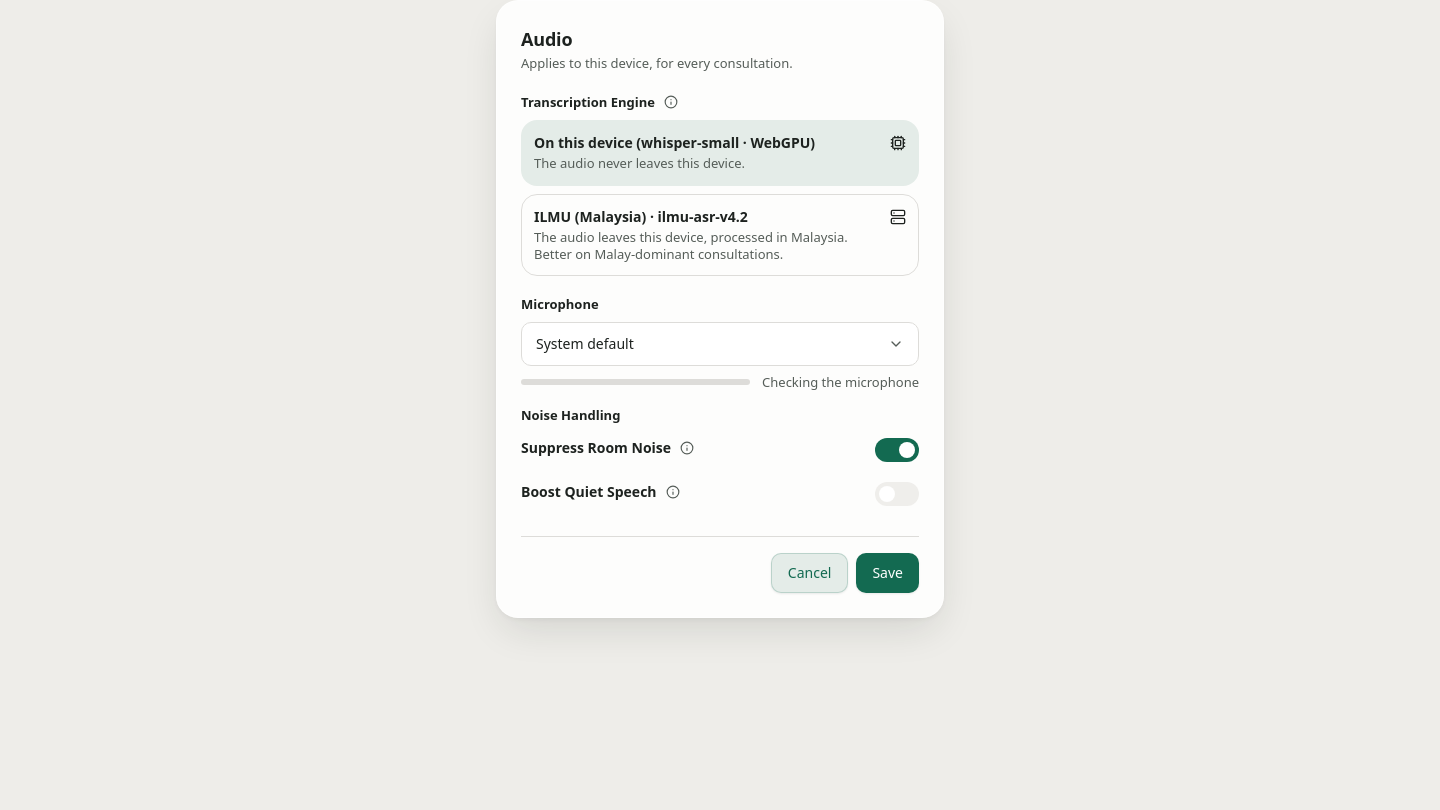
Test: the audio processing toggles › states what boosting quiet speech does, and what it may also amplify
Click the button named "about boost quiet speech" at (672, 492), box [662, 482, 682, 502]
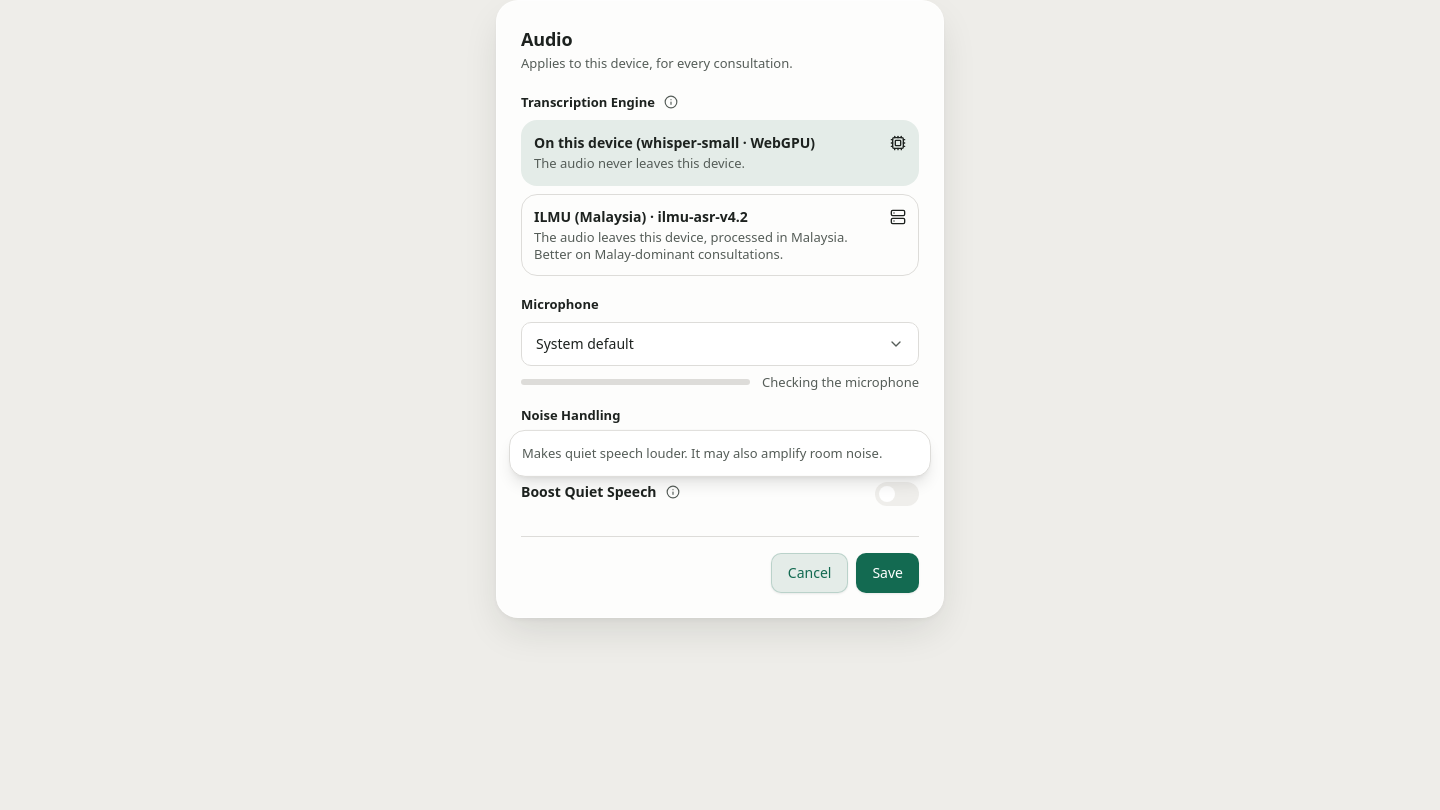
Check: the tooltip reads "Makes quiet speech louder. It may also amplify room noise.", box [522, 444, 882, 462]
